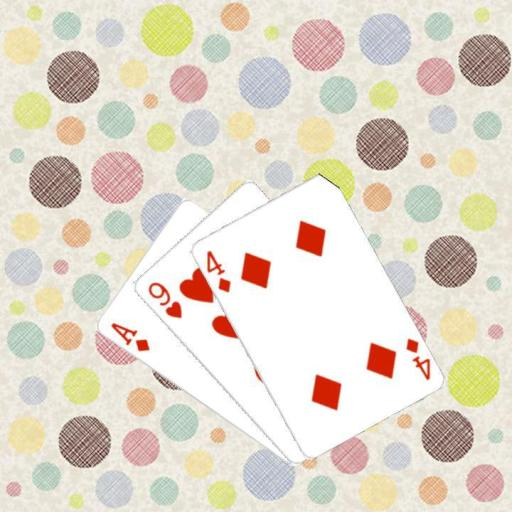4D: (402, 334, 432, 382), (203, 247, 232, 294)
9H: (144, 278, 184, 320)
AD: (107, 320, 151, 354)
